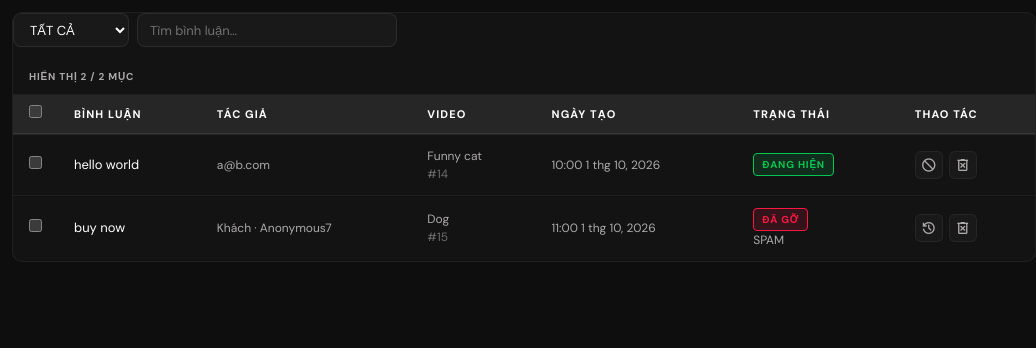
Test: AdminCommentTable › select all selects every row on the page and toggles off
Expected: the text "hello world" is shown, [74,156,139,173]
Click the checkbox named "Chọn tất cả trên trang" at (36, 112), box [29,105,42,118]
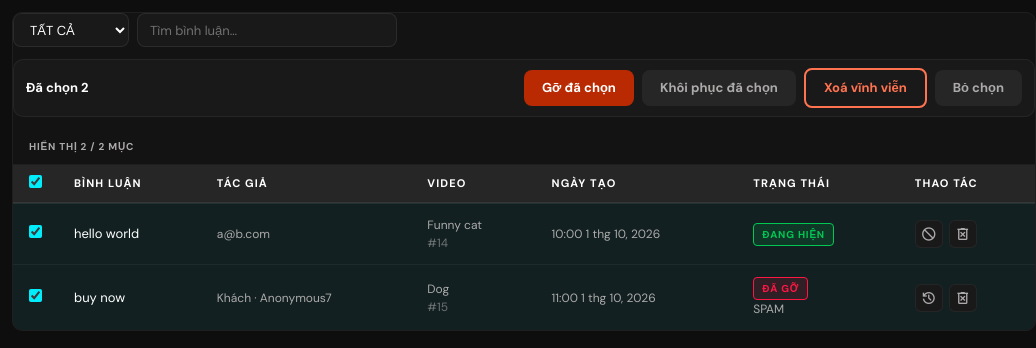
Expected: the checkbox named "Chọn bình luận c1" is checked, [29,225,42,238]
Expected: the checkbox named "Chọn bình luận c2" is checked, [29,289,42,302]
Click the checkbox named "Chọn tất cả trên trang" at (36, 181), box [29,174,42,188]
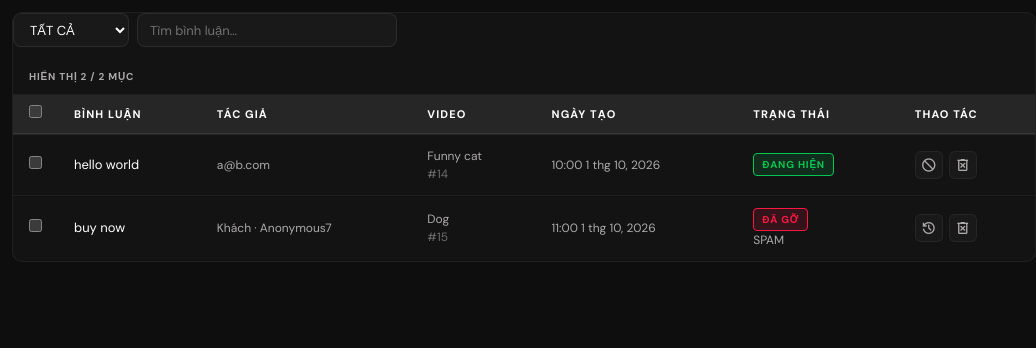
Expected: the checkbox named "Chọn bình luận c1" is not checked, [29,156,42,169]
